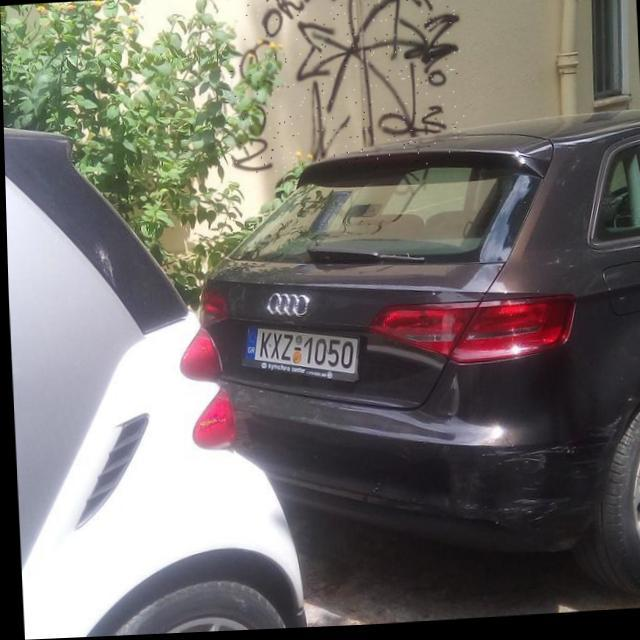-: (223, 0, 464, 177)
